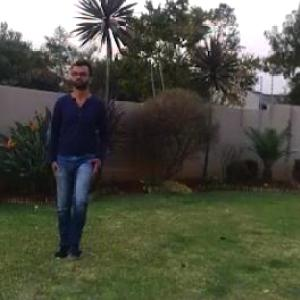follow: (38, 50, 112, 273)
